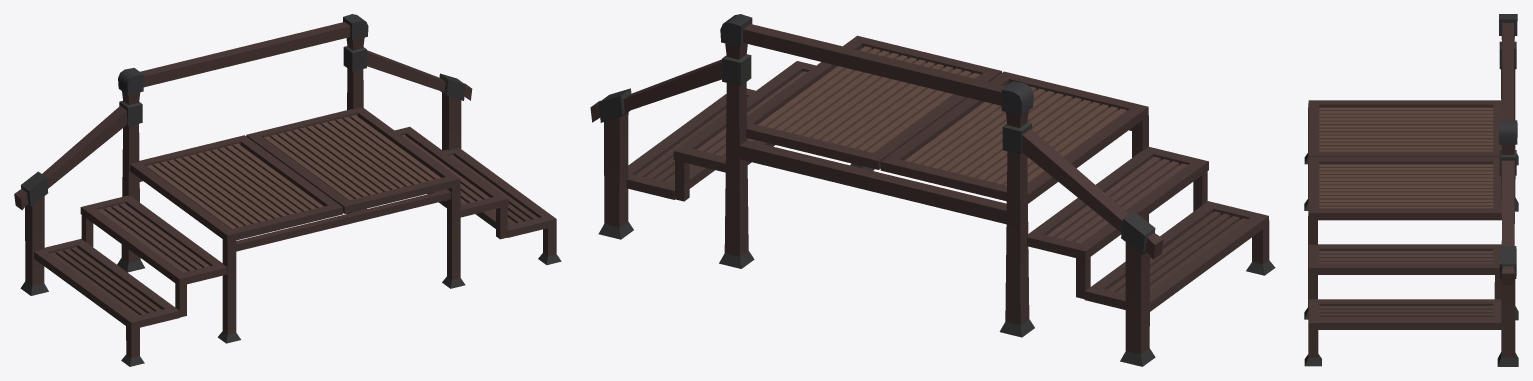
Rendered from Stairs_1_A.fbx.
3 renders of one model, left to right at view 1: azimuth 30°, elevation 25°; view 2: azimuth 150°, elevation 25°; view 3: azimuth 270°, elevation 25°, orthographic. The views are drawn at different scales.
Parts seen in each view (by area): view 1: Stairs_1_A; view 2: Stairs_1_A; view 3: Stairs_1_A.
Boxes of the visible parts, x1=… form: Stairs_1_A: x1=14, y1=14, x2=561, y2=366; Stairs_1_A: x1=590, y1=14, x2=1275, y2=366; Stairs_1_A: x1=1304, y1=14, x2=1518, y2=366.
Size of the model in its own units: 307 by 126 by 127.
